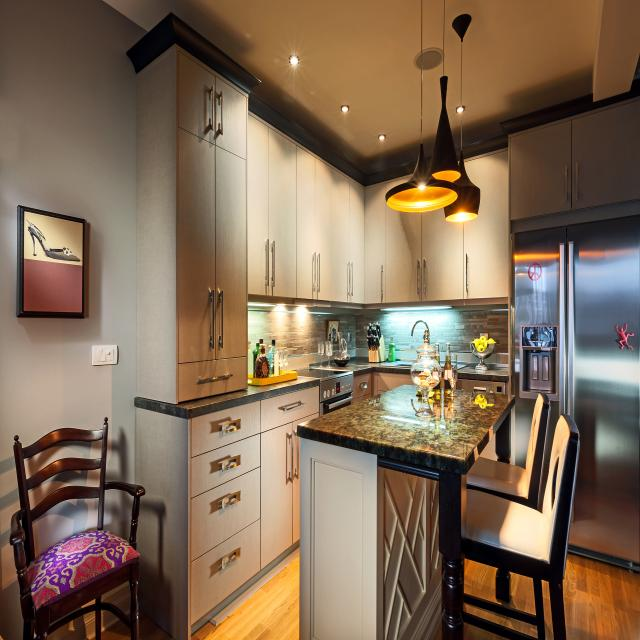Appliance_Fridge: (511, 216, 640, 573)
Appliance_Oven: (297, 368, 352, 416)
Cabinet_Inset: (175, 48, 640, 405), (188, 385, 321, 632), (353, 371, 412, 408)
Countertop_Granite: (296, 385, 514, 473), (134, 375, 321, 419), (308, 357, 412, 377), (456, 364, 510, 382)
